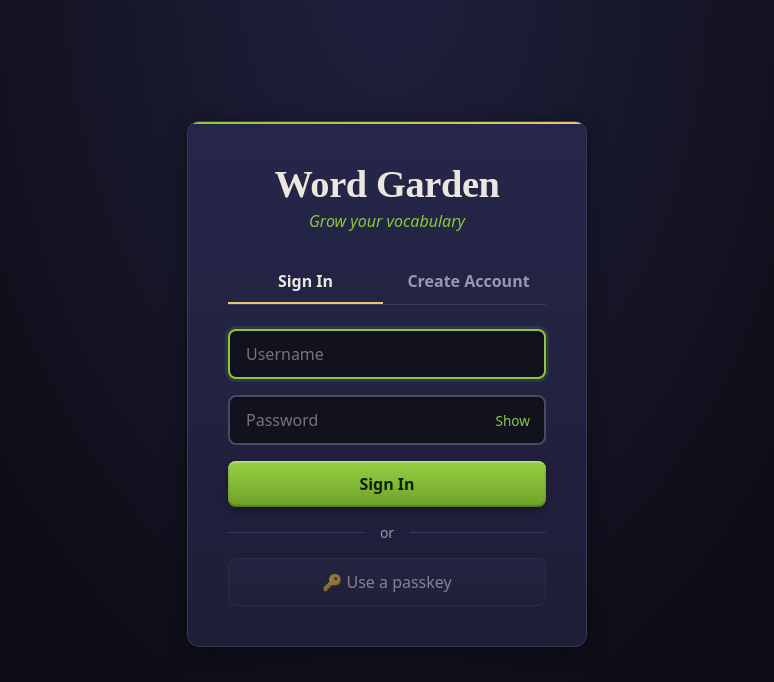
Test case: Password visibility toggle › hides the password again after a failed submit
Type "alice" into the field with placeholder "Username" at (387, 354), box [228,329,546,379]
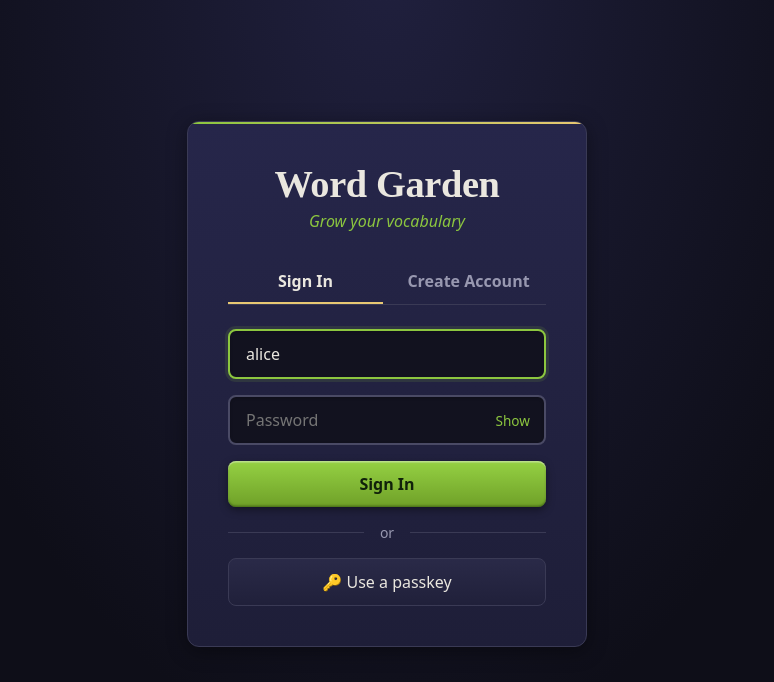
Type "password123" into the password field with placeholder "Password" at (387, 420), box [228,395,546,445]
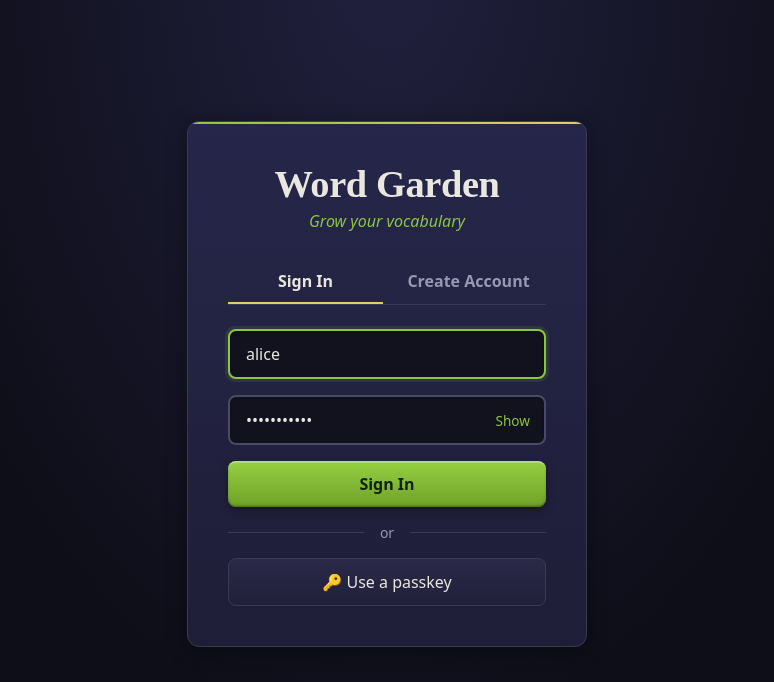
Click the button with aria-label "Show password" at (513, 420), box [488,402,538,438]
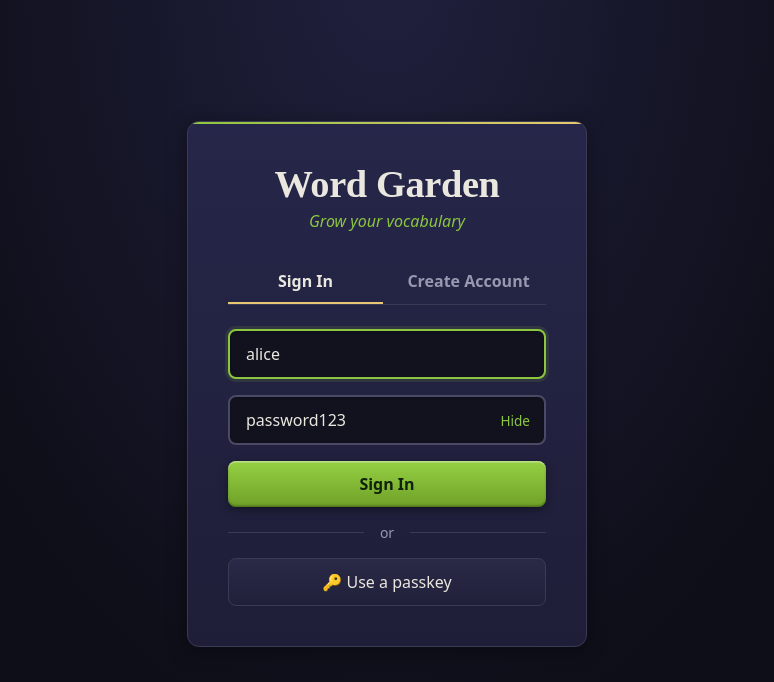
Expected: the 2nd field with placeholder "Password" shows its text, [228,395,546,445]
Submit the form, box [228,329,546,606]
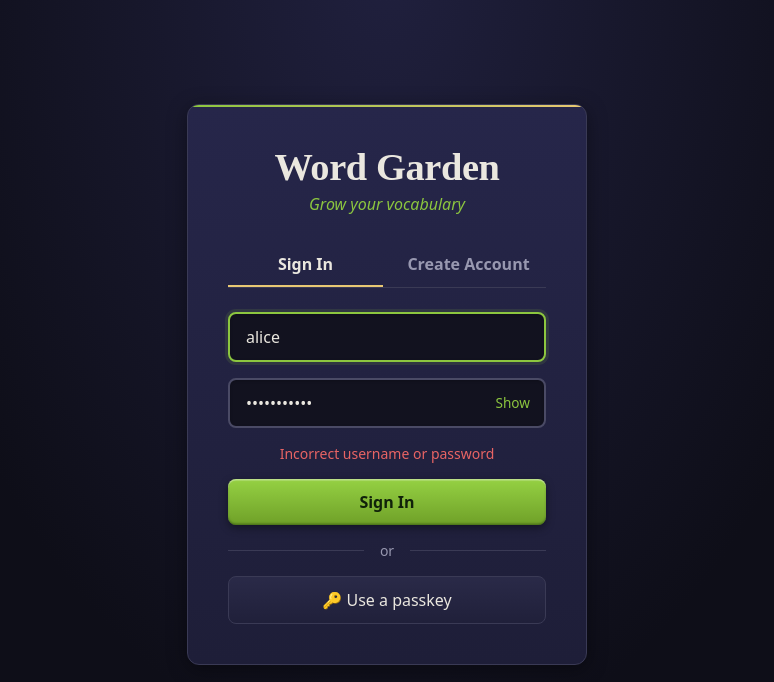
Expected: the text "Incorrect username or password" is shown, [280,444,494,462]
Expected: the password field with placeholder "Password" hides its text, [228,378,546,428]
